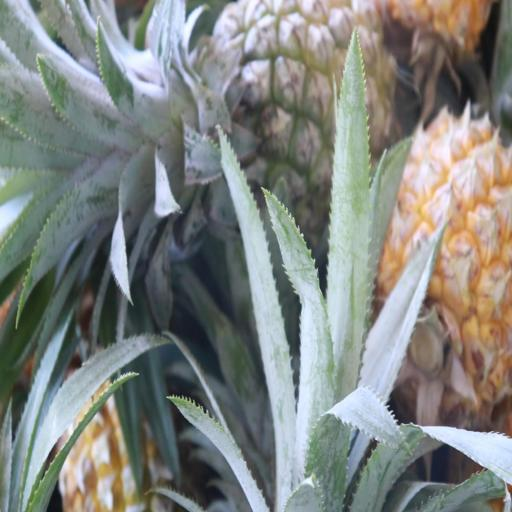Pineapple - v8 v1: (373, 120, 512, 418)
